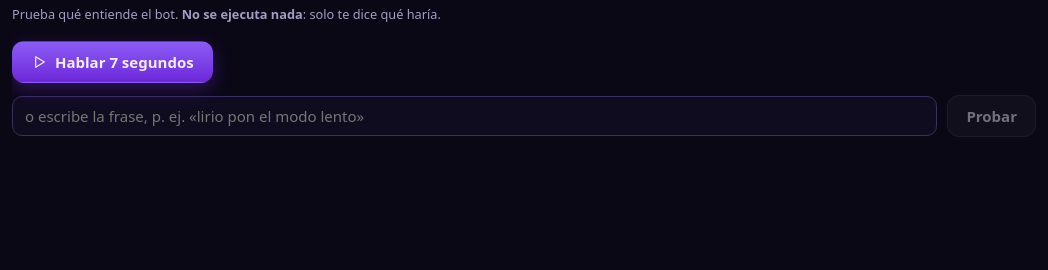
Test: probar comandos de voz › dice qué haría sin ejecutarlo
Type "lirio pon el modo lento" into the field named "Frase de prueba" at (475, 116), box [12,96,937,136]
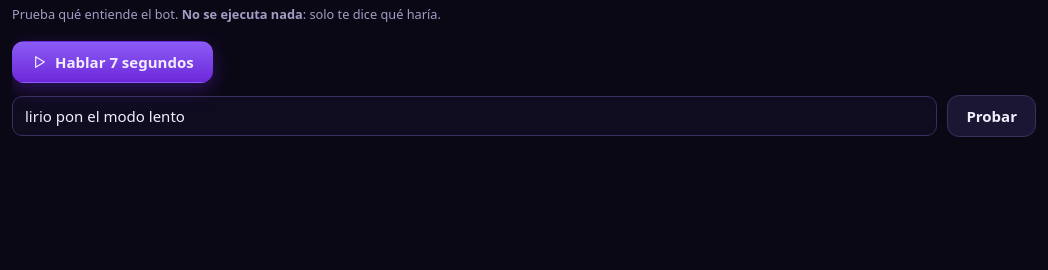
Click the button "Probar" at (992, 116), box [947,95,1036,137]
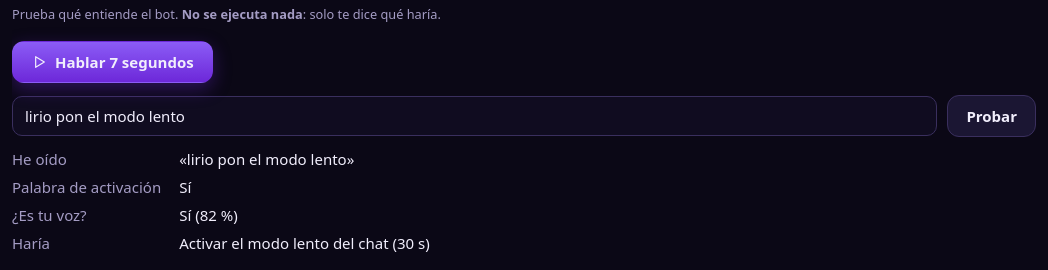
Expected: the text "No se ejecuta nada" is shown, [182,5,303,23]
Now the text "Activar el modo lento del chat (30 s)" is shown, box [179,233,430,253]
